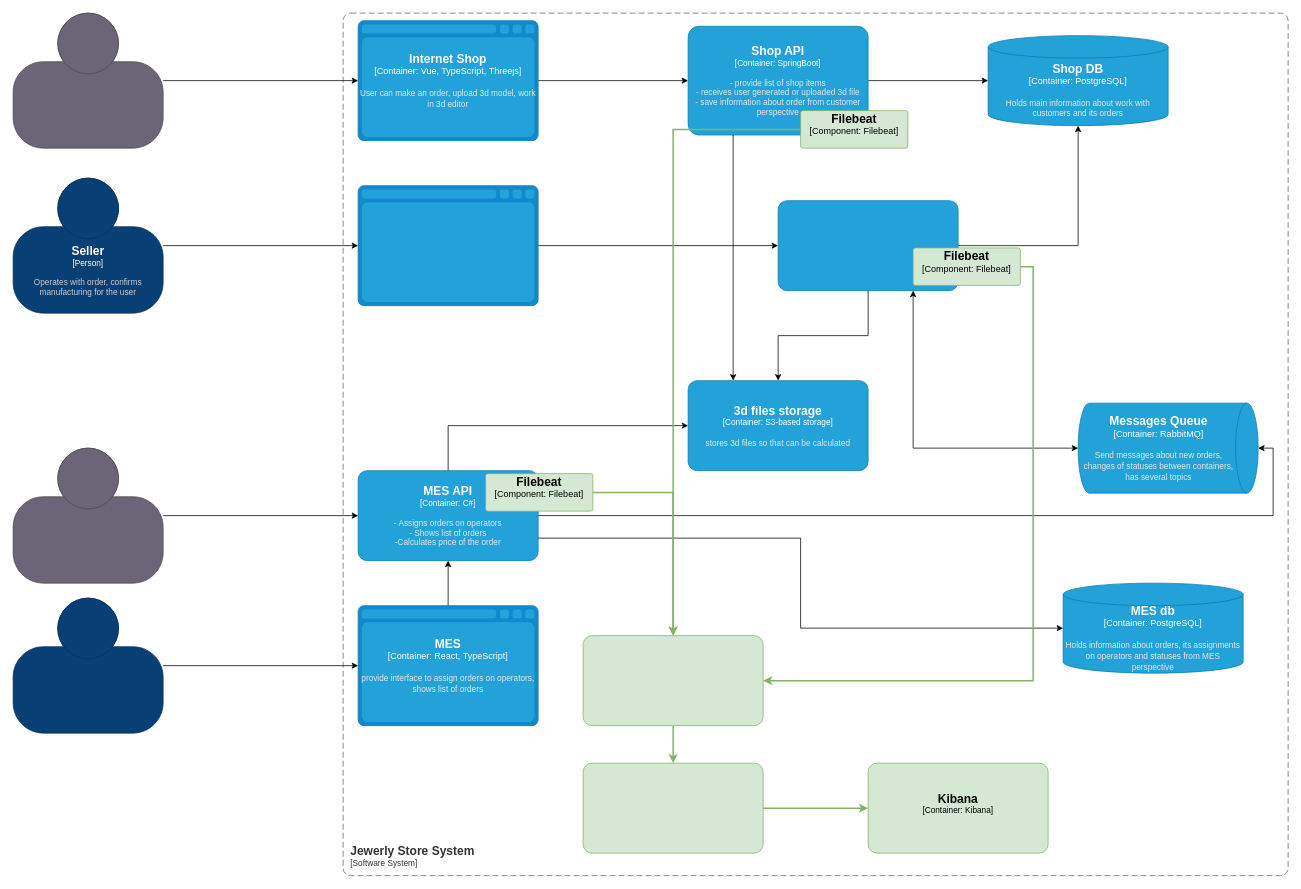
Some shapes in this 1301 by 889 pixel diagram are drawn without their labels. Each missing label, with the box of its shape:
API user [Person]: (12, 447, 163, 583)
CRM [Container: Vue, TypeScript]: (357, 185, 538, 306)
CRM API [Container: SpringBoot]: (777, 200, 958, 291)
Customer [Person]: (12, 12, 163, 148)
Elasticsearch [Container: Elasticsearch]: (582, 762, 763, 853)
Logstash [Container: Logstash]: (582, 635, 763, 726)
Operator [Person] Takes order in work, manufactures jewerly: (12, 597, 163, 733)
